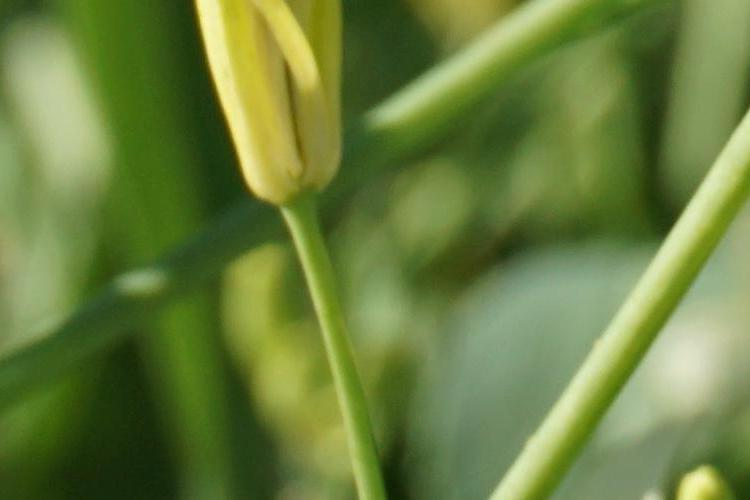yellow: (210, 7, 346, 201)
